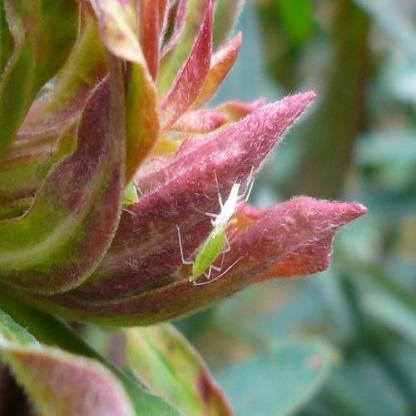aphid: (176, 214, 240, 286), (202, 158, 252, 245), (117, 171, 153, 218)
